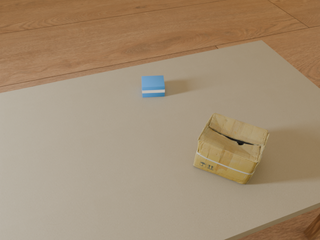box: (193, 113, 270, 184), (142, 76, 165, 97)
